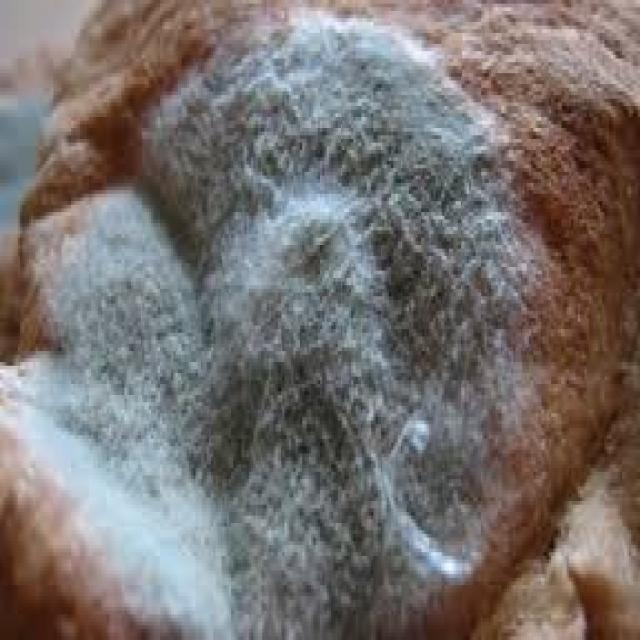Food -Biodegradable-: (0, 0, 636, 640)
